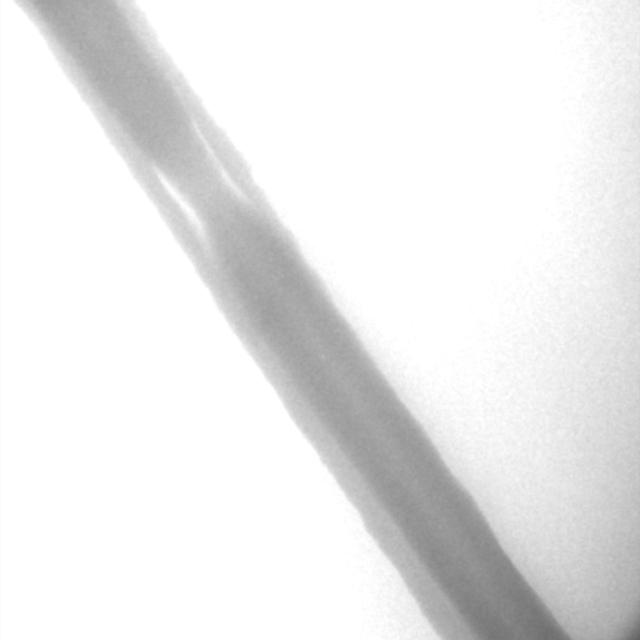unfused: (183, 66, 257, 218), (142, 156, 214, 276)
